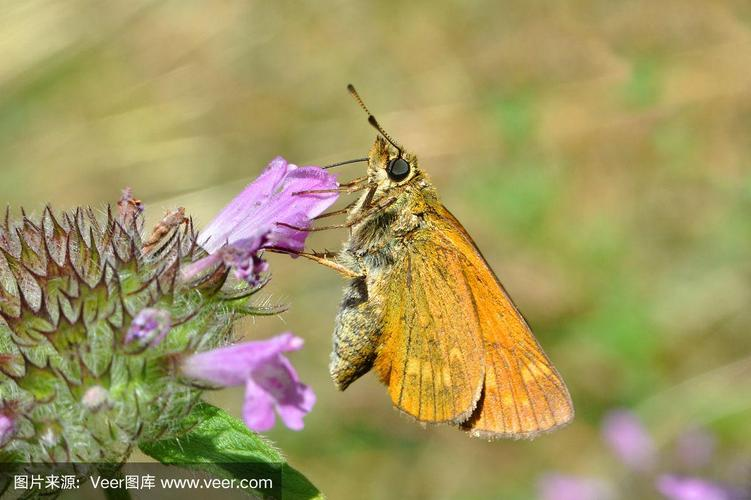Hesperiidae: (264, 88, 576, 446)
